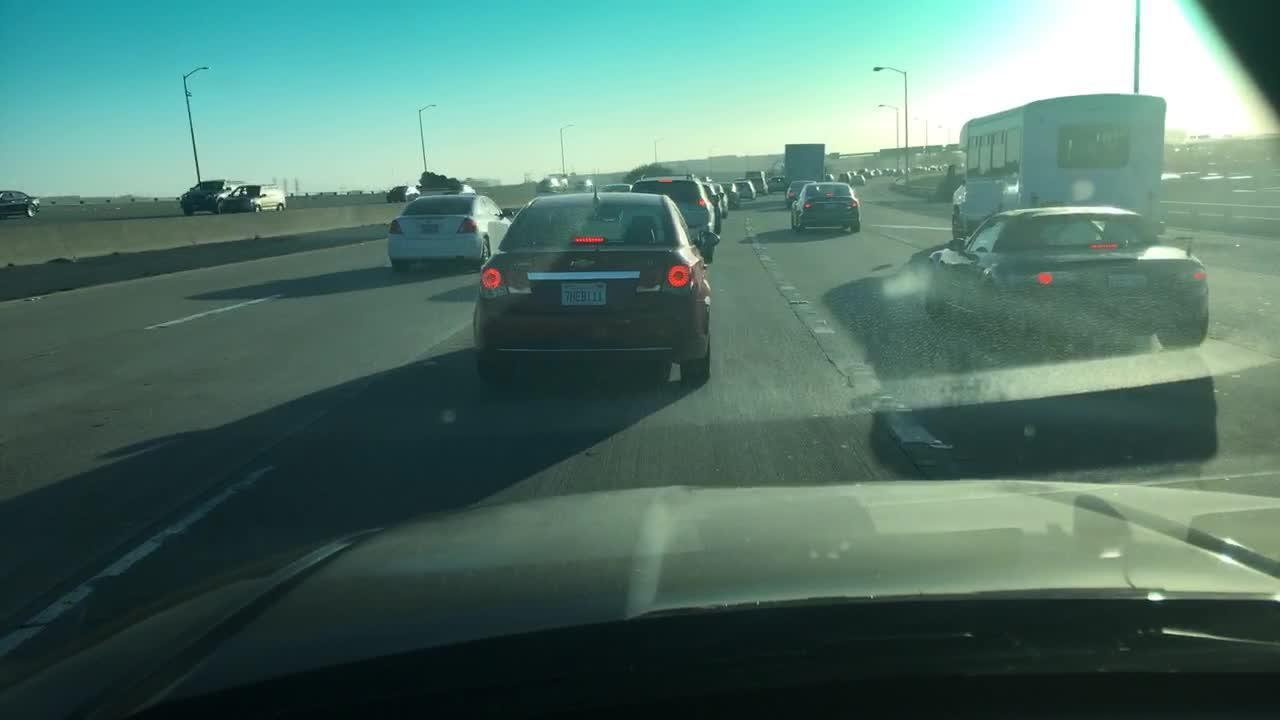chevrolet: (566, 254, 598, 273)
